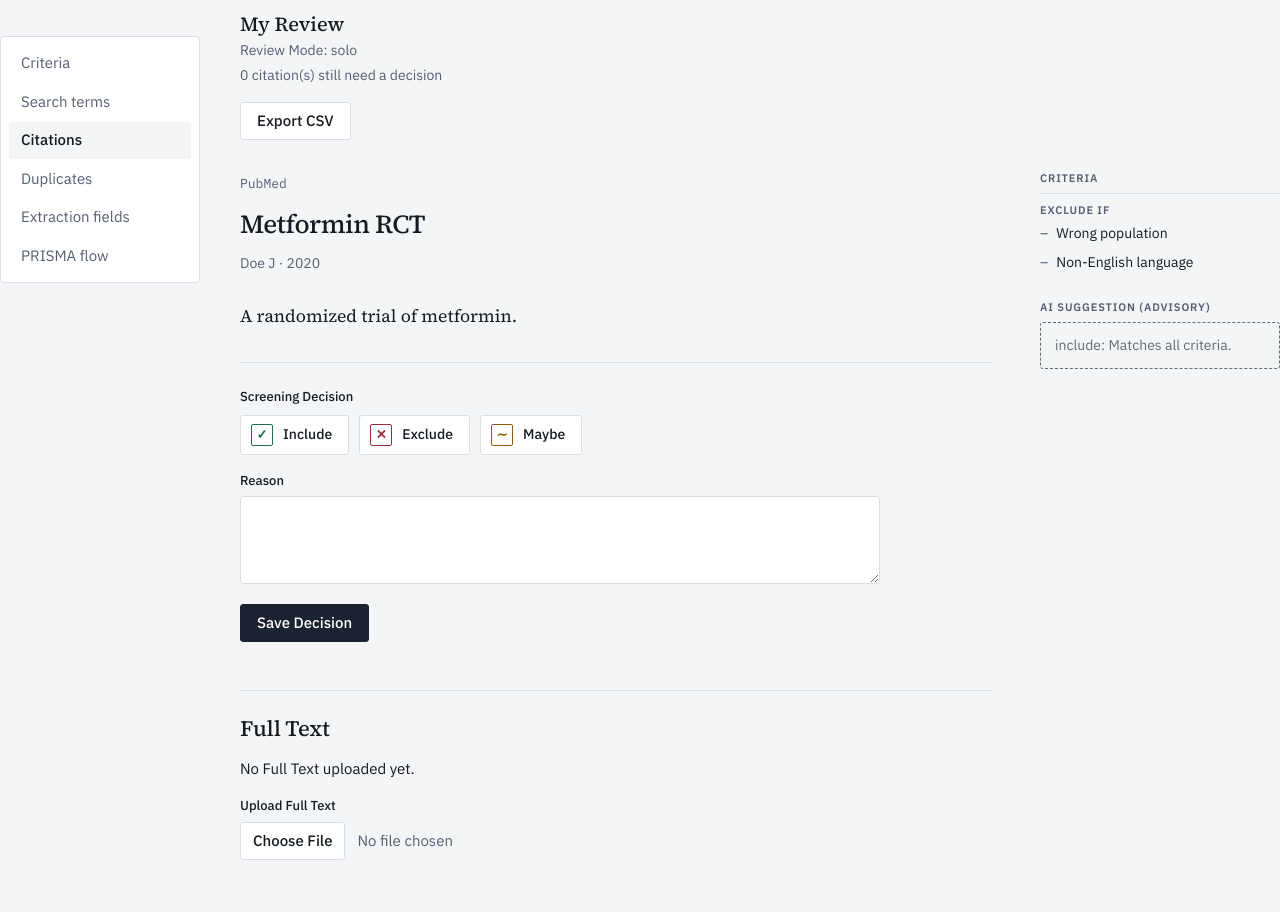
Test: CitationScreeningPage › records a screening decision on submit
Expected: the text "include: Matches all criteria." is shown, [1055,336,1232,354]
Click the radio button labelled "exclude" at (415, 435), box [359,415,470,455]
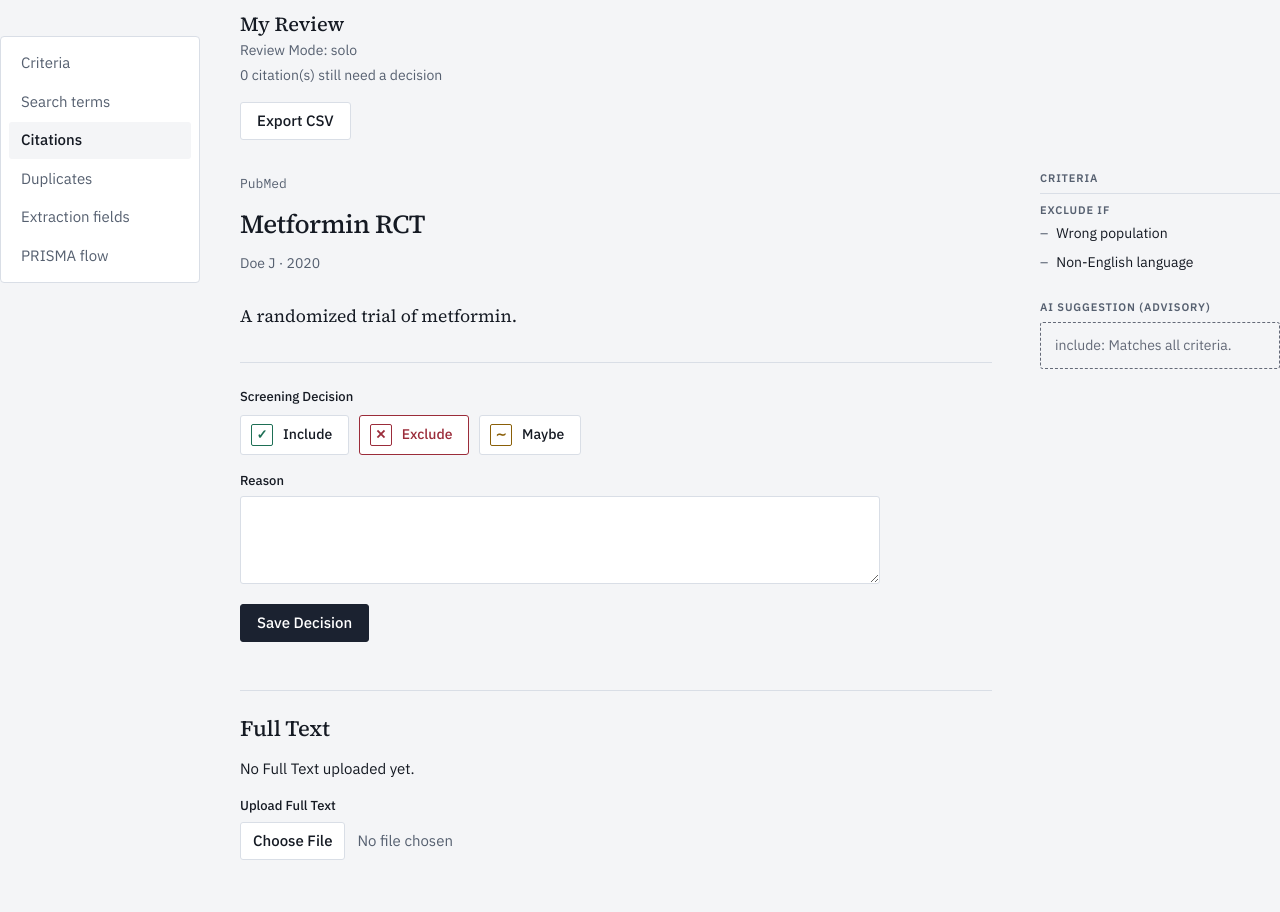
Type "Actually wrong population." into the text box labelled "Reason" at (560, 540), box [240,496,880,584]
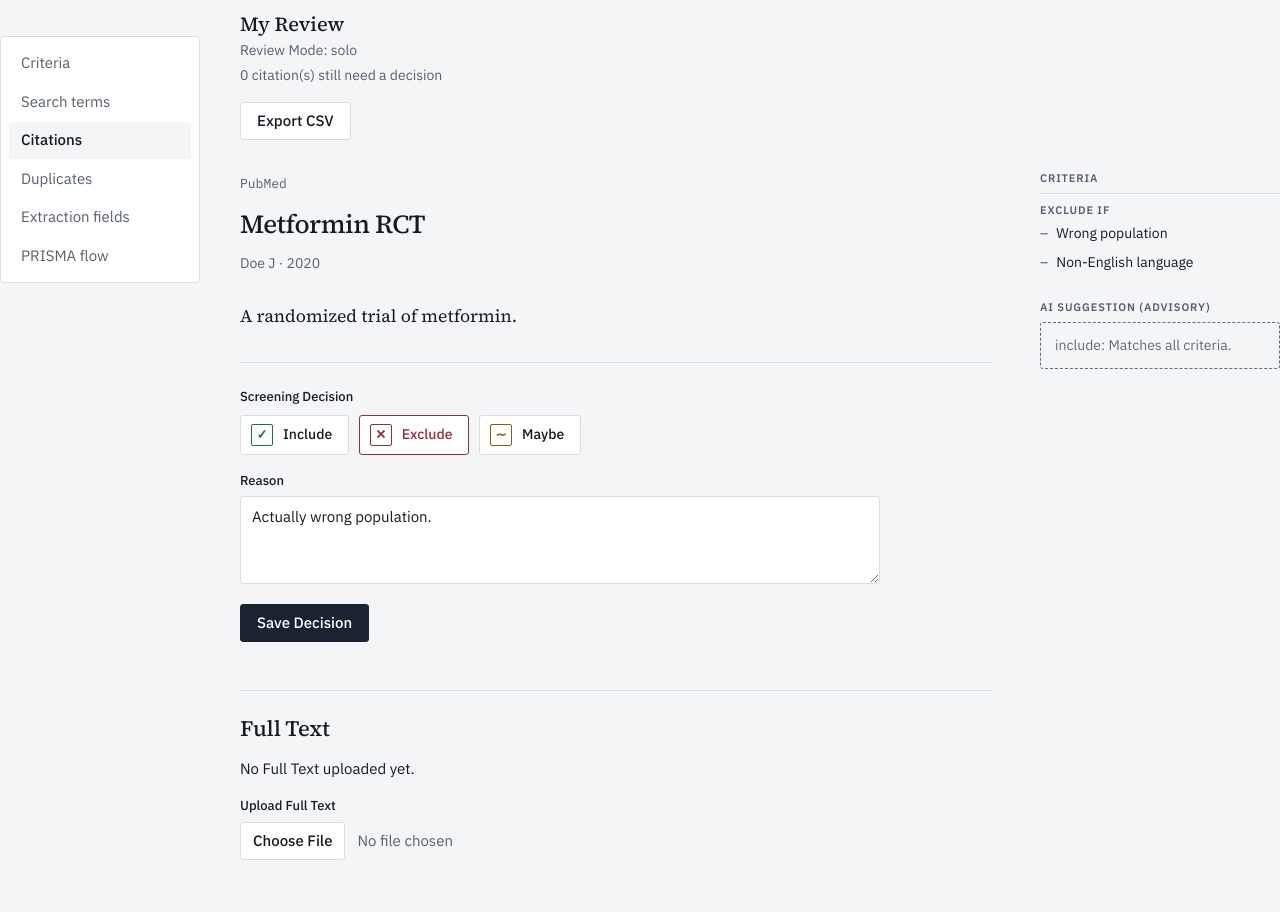
Click the button "Save Decision" at (305, 623), box [240,604,369,642]
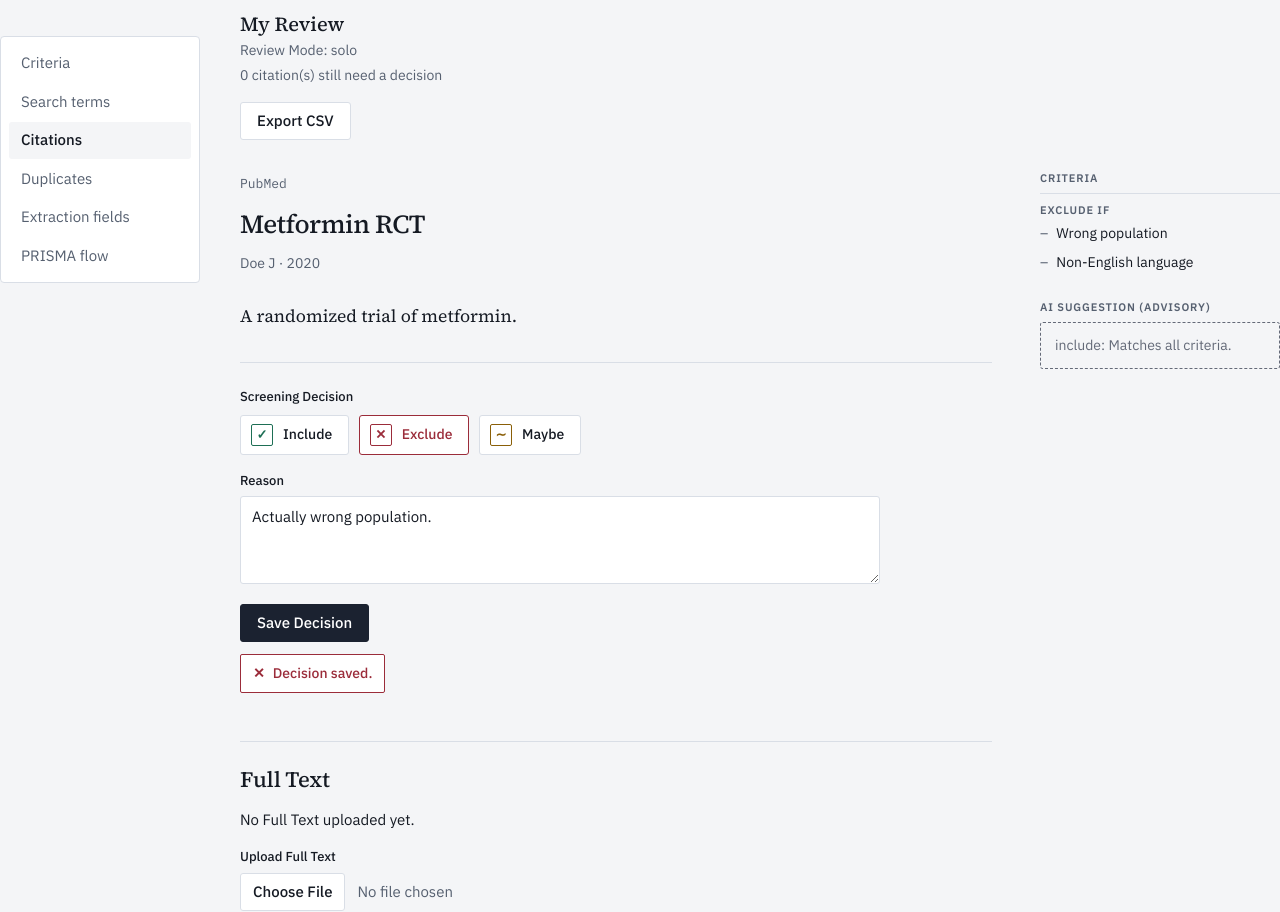
Expected: the text "Decision saved." is shown, [240,654,385,693]
